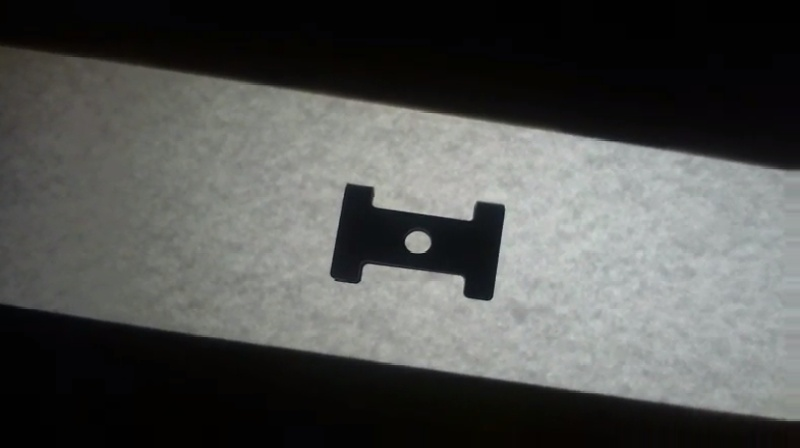O002: (327, 181, 508, 302)
